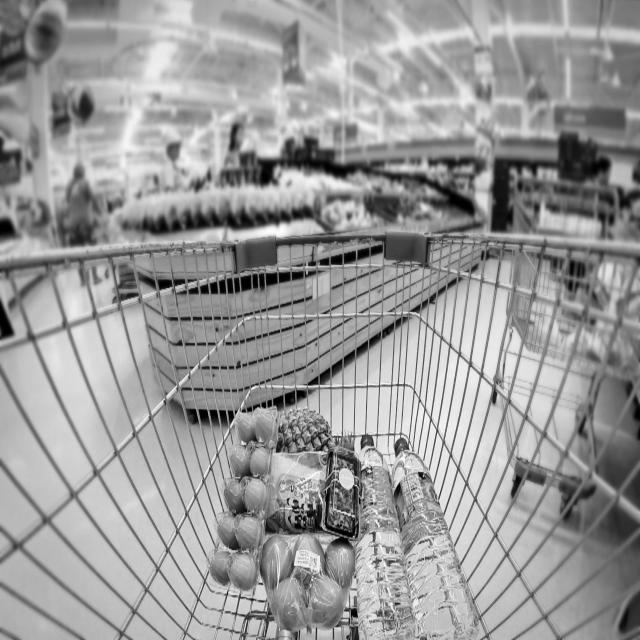dua: (274, 404, 333, 457)
tao: (259, 535, 359, 634)
trung: (209, 400, 281, 598)
